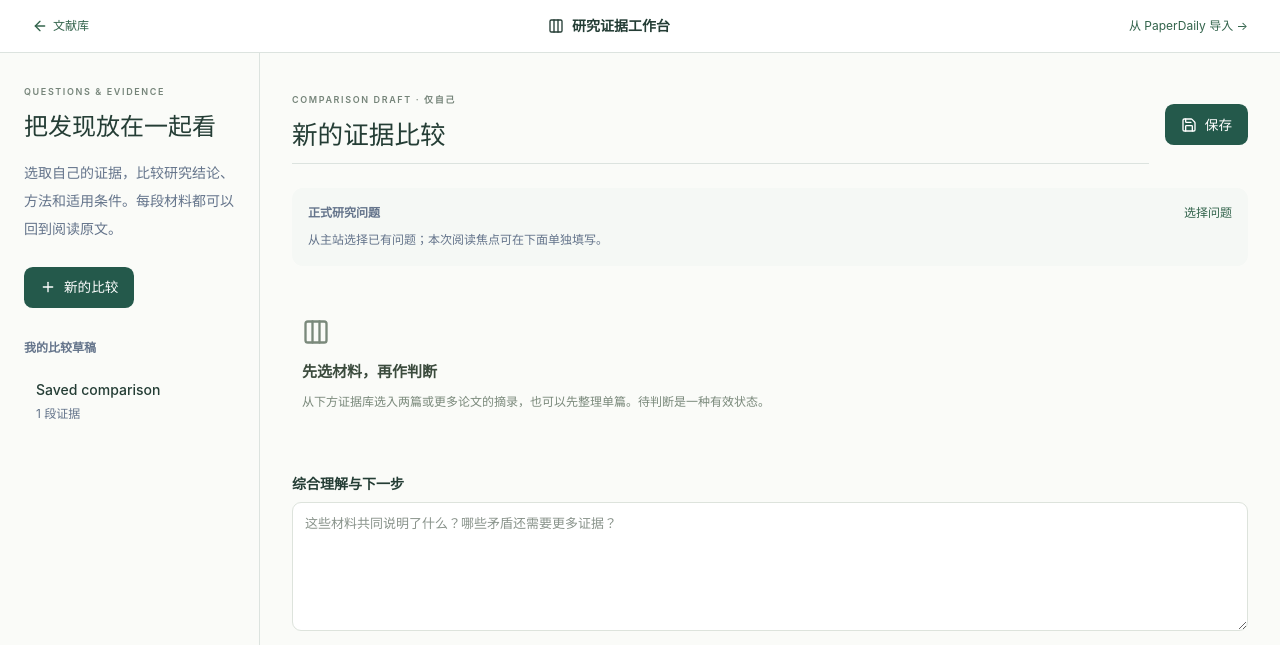
Test: reads the original receipt after a lost success response without creating a new preview
Click the text "Saved comparison".
click(98, 389)  # box [36,381,160,398]
(page scrolled)
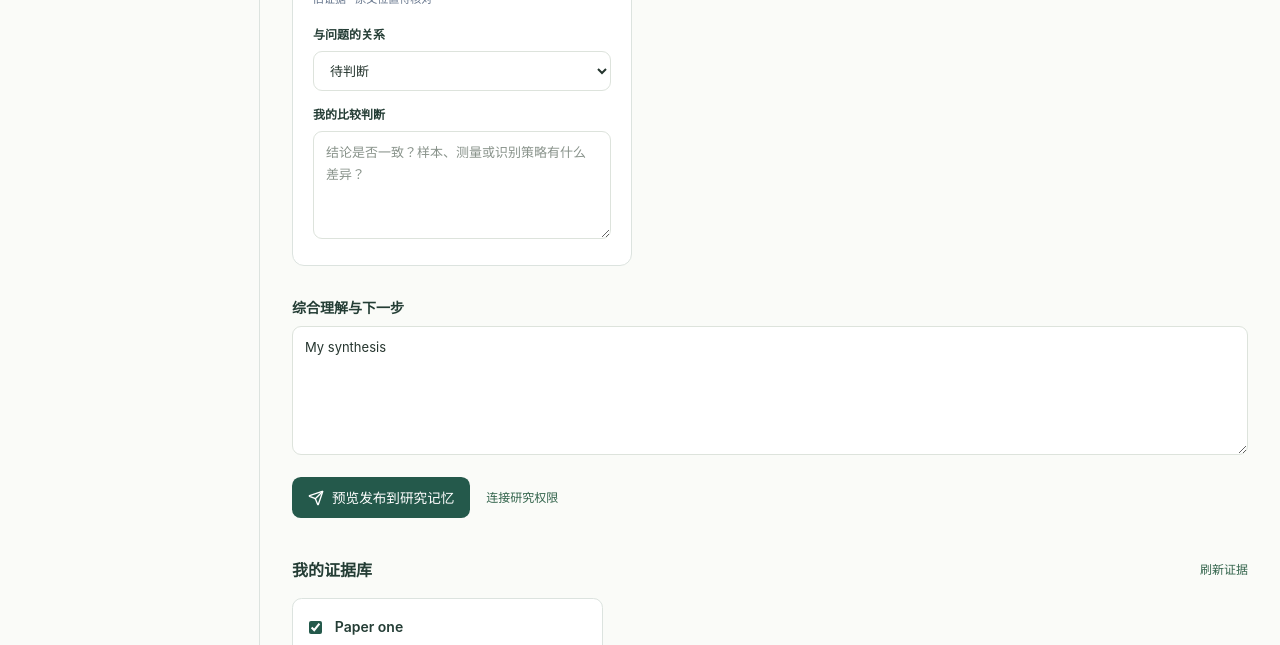
Click the button "预览发布到研究记忆".
click(381, 498)  # box [292,477,470,518]
(page scrolled)
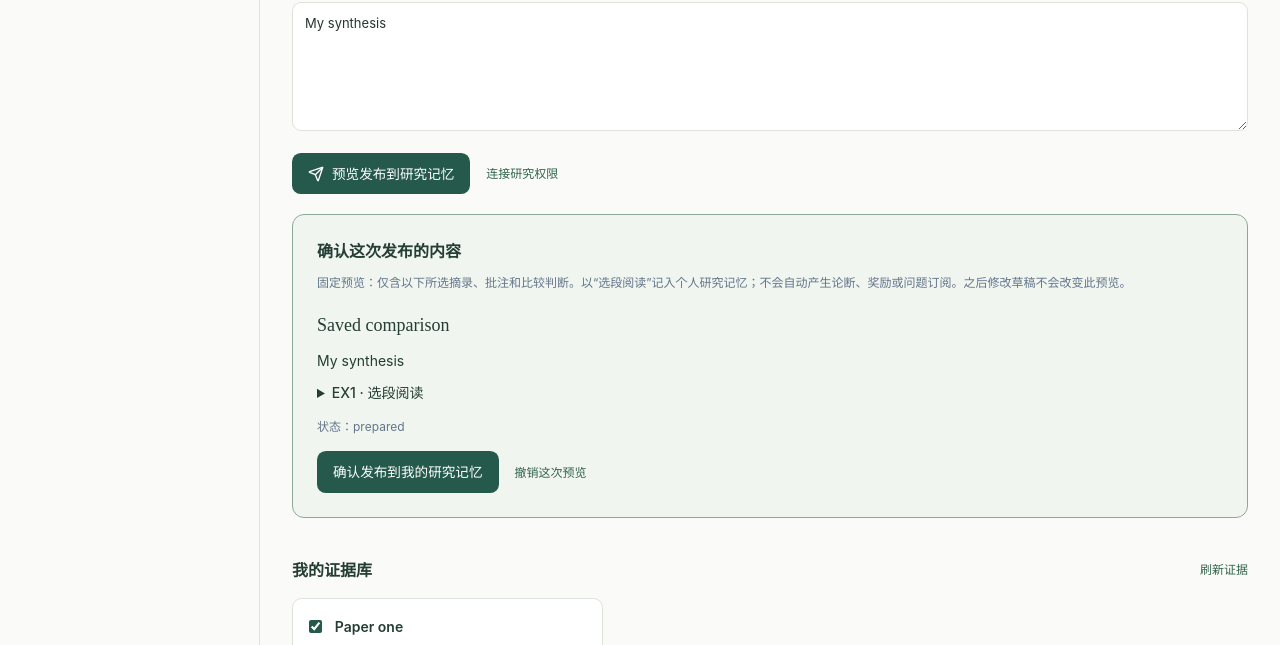
Click the button "确认发布到我的研究记忆".
click(408, 472)  # box [317,451,498,493]
(page scrolled)
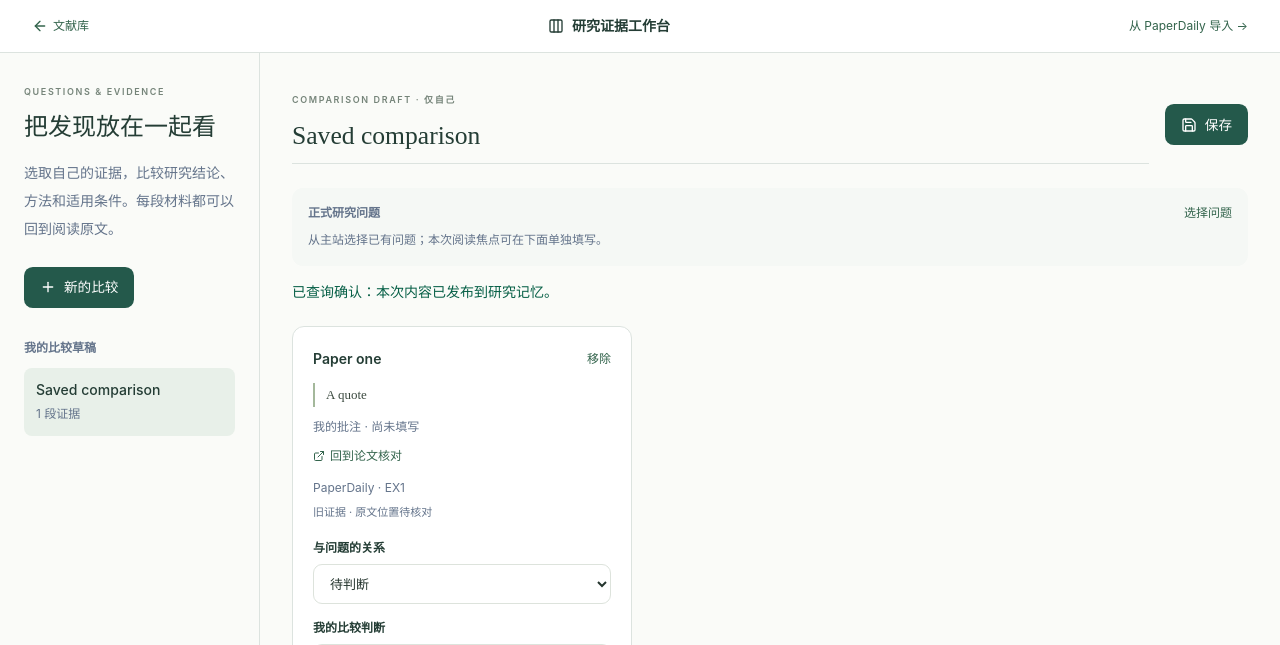
Expected: the text "已查询确认：本次内容已发布到研究记忆。" is shown, [292,283,558,300]
Expected: the button "确认发布到我的研究记忆" is gone
